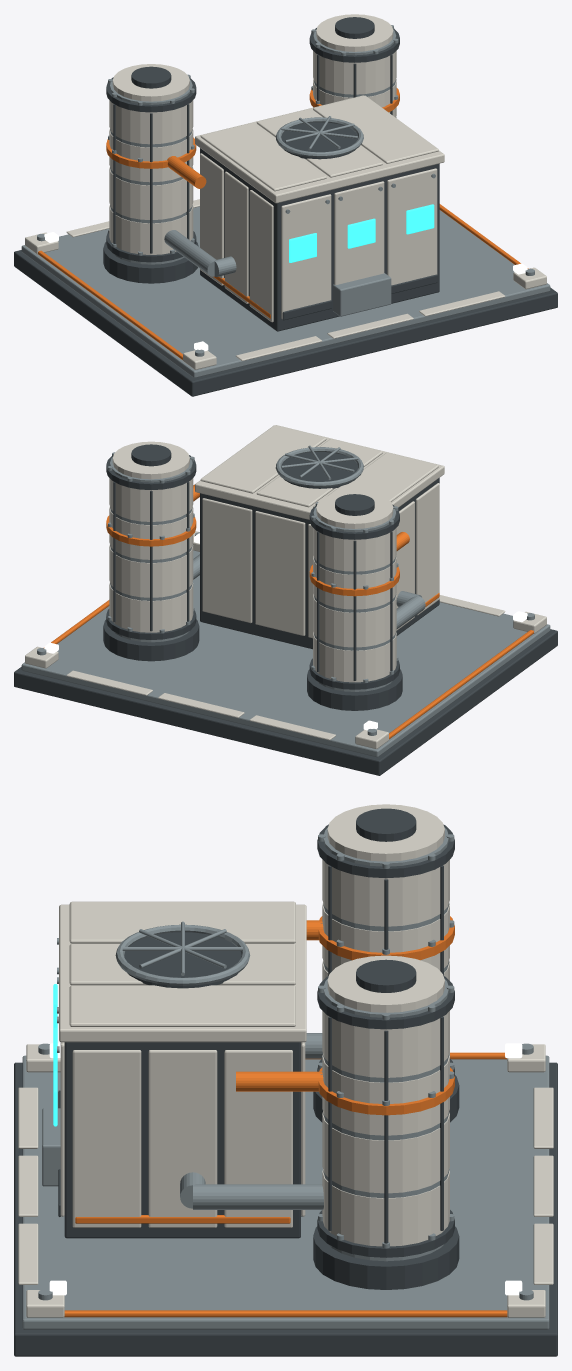
The model's file is SM_WaterPurifier_Refined.fbx.
3 renders of one model, top to bottom at view 1: azimuth 30°, elevation 25°; view 2: azimuth 150°, elevation 25°; view 3: azimuth 270°, elevation 25°, orthographic. The views are drawn at different scales.
Parts seen in each view (by area): view 1: SM_WaterPurifier_Refined.001; view 2: SM_WaterPurifier_Refined.001; view 3: SM_WaterPurifier_Refined.001.
Boxes of the visible parts, x1=… form: SM_WaterPurifier_Refined.001: x1=14, y1=14, x2=557, y2=396; SM_WaterPurifier_Refined.001: x1=14, y1=425, x2=557, y2=775; SM_WaterPurifier_Refined.001: x1=14, y1=804, x2=557, y2=1356.
Size of the model in its own units: 450 by 380 by 250.
